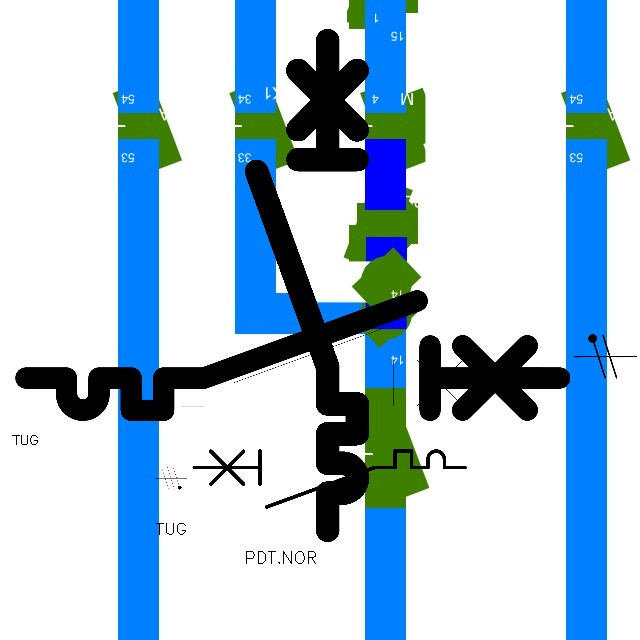interruptor_termomagnetico: (12, 287, 573, 424), (244, 28, 370, 543), (96, 318, 496, 416), (187, 444, 472, 513)
